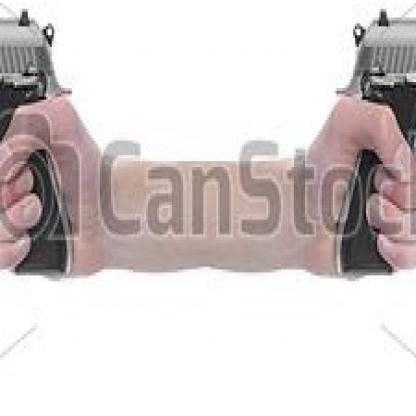gun: (0, 3, 74, 281), (340, 6, 414, 281)
